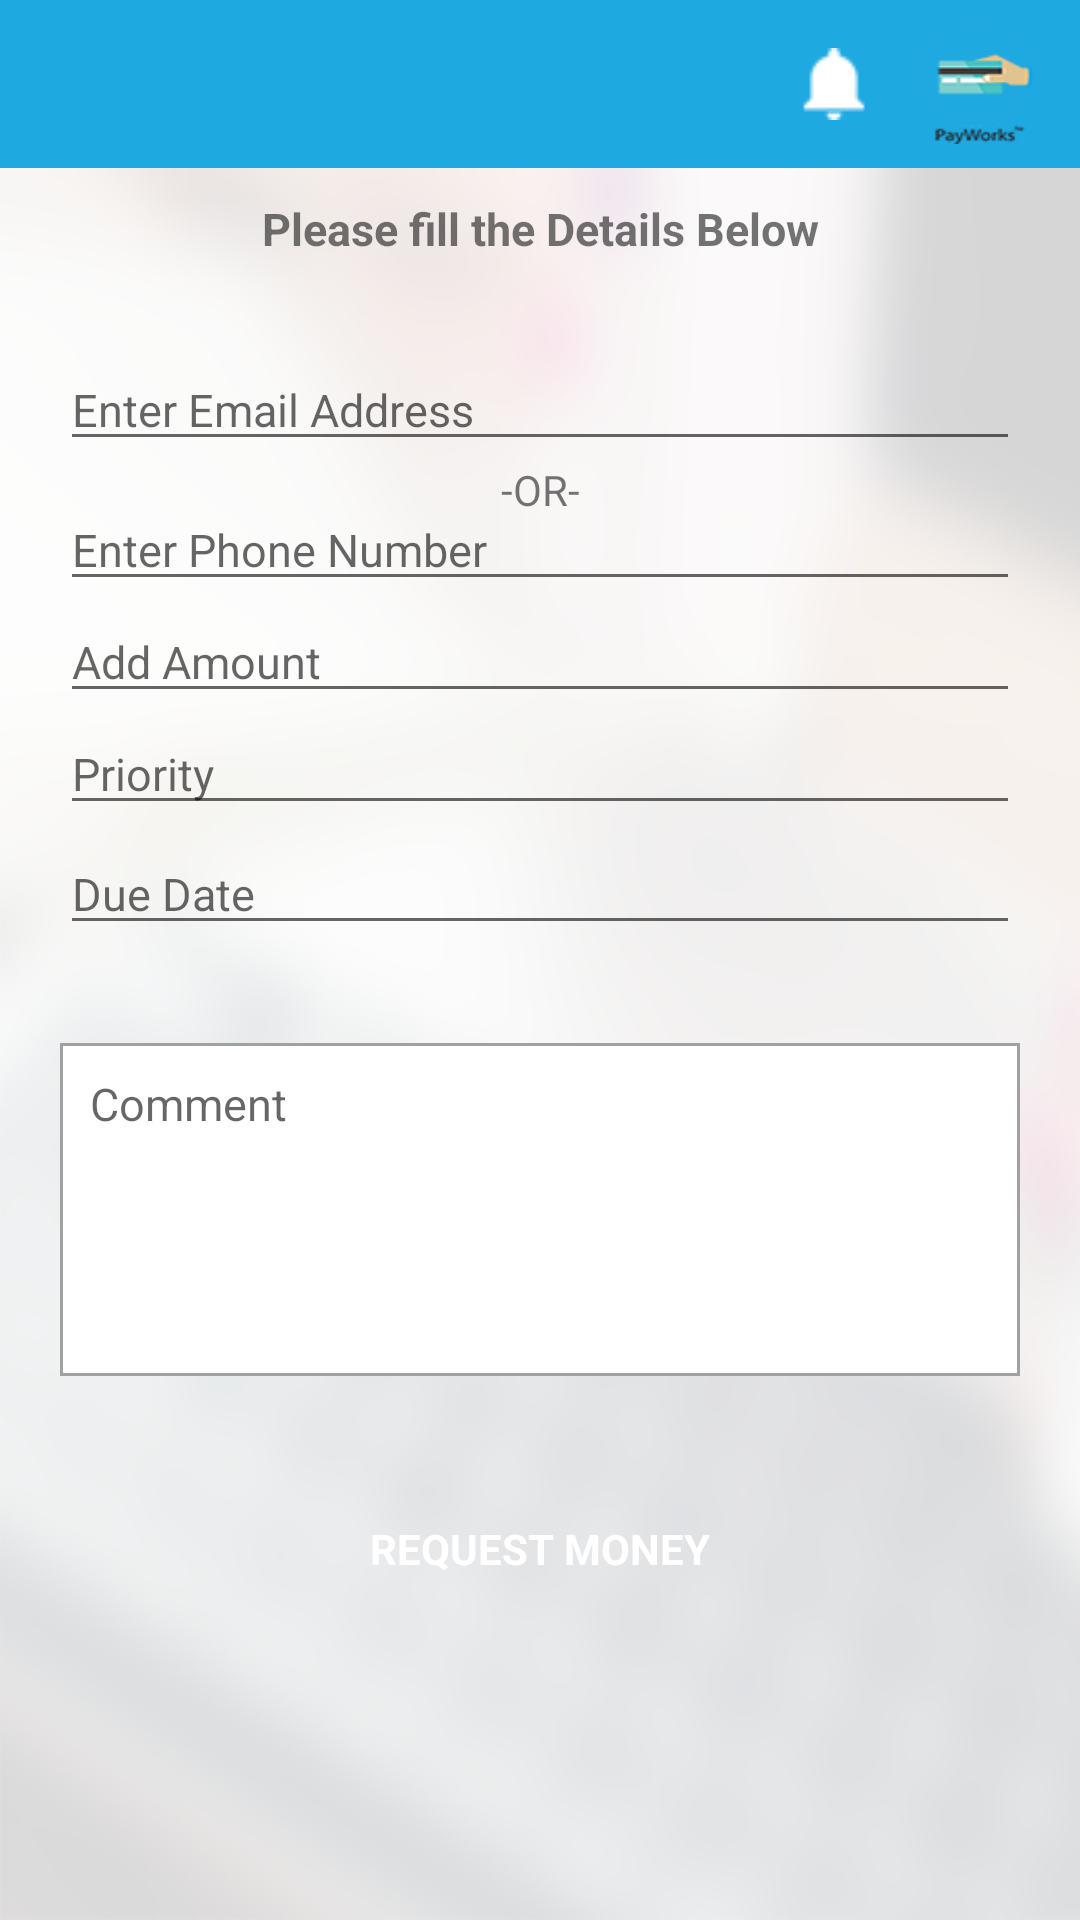

Screen size 1080*1920. Icon name, then its box in pixels as (x1, y1, x2, y2):
bell: (803, 48, 865, 120)
